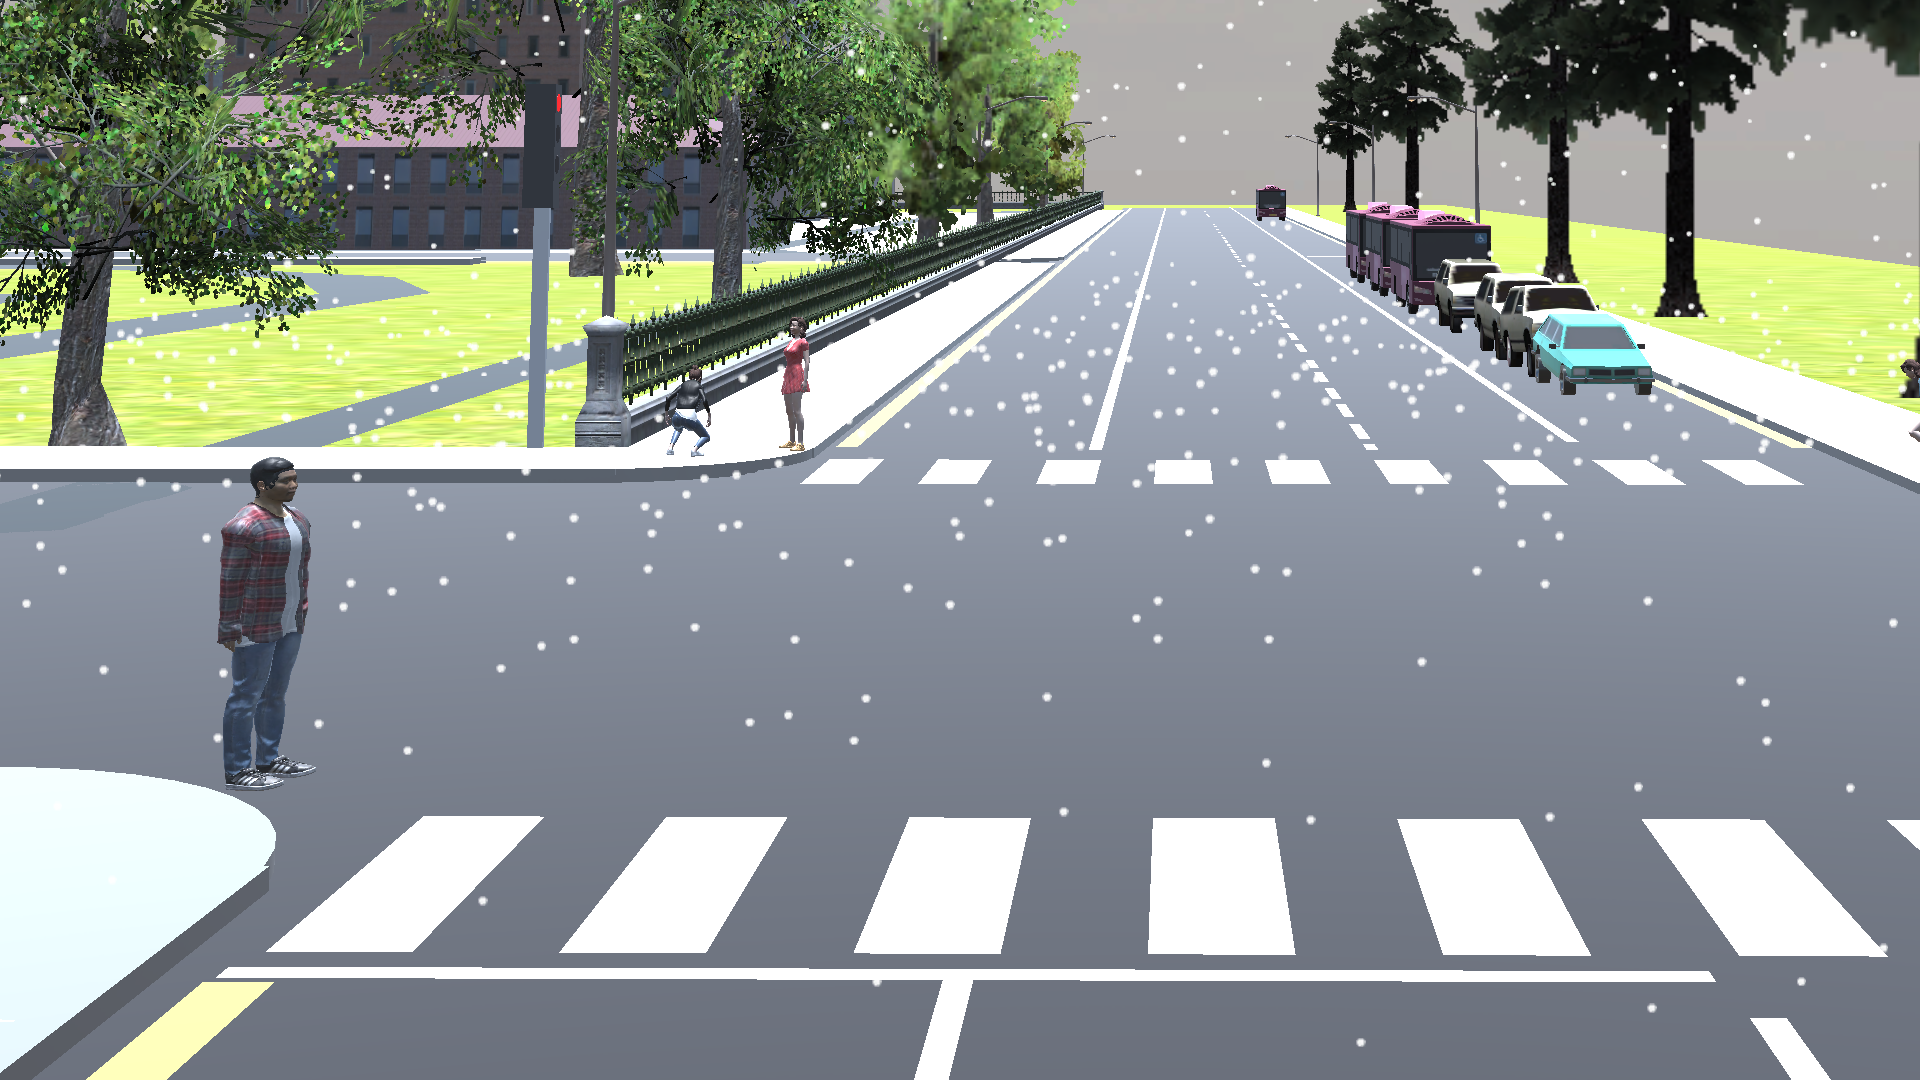pedestrian: (208, 451, 345, 793), (657, 356, 727, 467), (778, 316, 830, 458)
